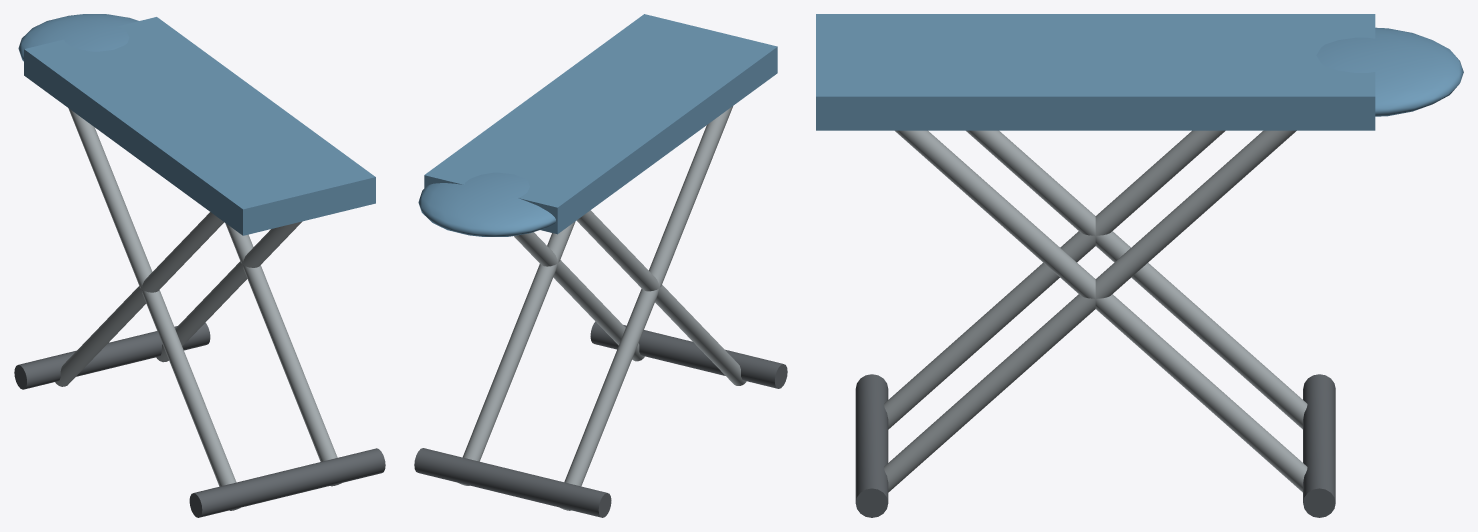
Rendered from ironing_board.glb.
3 views of the same model, side by side, from view 1: azimuth 30°, elevation 25°; view 2: azimuth 150°, elevation 25°; view 3: azimuth 270°, elevation 25° (orthographic). The views are drawn at different scales.
Parts seen in each view (by area): view 1: padded_top_1, cross_leg_3, foot_7, cross_leg_5, cross_leg_4, foot_8, rounded_tip_2, cross_leg_6; view 2: padded_top_1, cross_leg_4, rounded_tip_2, foot_8, cross_leg_6, cross_leg_3, foot_7, cross_leg_5; view 3: padded_top_1, cross_leg_5, cross_leg_6, cross_leg_3, cross_leg_4, rounded_tip_2, foot_7, foot_8.
Part boxes in pixels (x1,y1,x2,y2): padded_top_1: (24,17,375,235); cross_leg_3: (68,108,240,510); foot_7: (189,448,385,517); cross_leg_5: (225,223,341,486); cross_leg_4: (55,212,224,386); foot_8: (14,323,210,389); rounded_tip_2: (18,14,138,61); cross_leg_6: (156,221,302,362); padded_top_1: (424,14,777,234); cross_leg_4: (560,106,732,510); rounded_tip_2: (418,172,555,236); foot_8: (414,448,611,517); cross_leg_6: (458,221,575,485); cross_leg_3: (576,210,746,385); foot_7: (590,321,787,388); cross_leg_5: (514,232,644,361); padded_top_1: (816,14,1375,130); cross_leg_5: (884,130,1296,492); cross_leg_6: (895,130,1307,492); cross_leg_3: (884,130,1225,429); cross_leg_4: (966,130,1307,429); rounded_tip_2: (1316,27,1463,116); foot_7: (855,374,888,517); foot_8: (1303,374,1335,517).
Bounding box in the file's own units: 0.58 × 0.9822 × 1.39.
